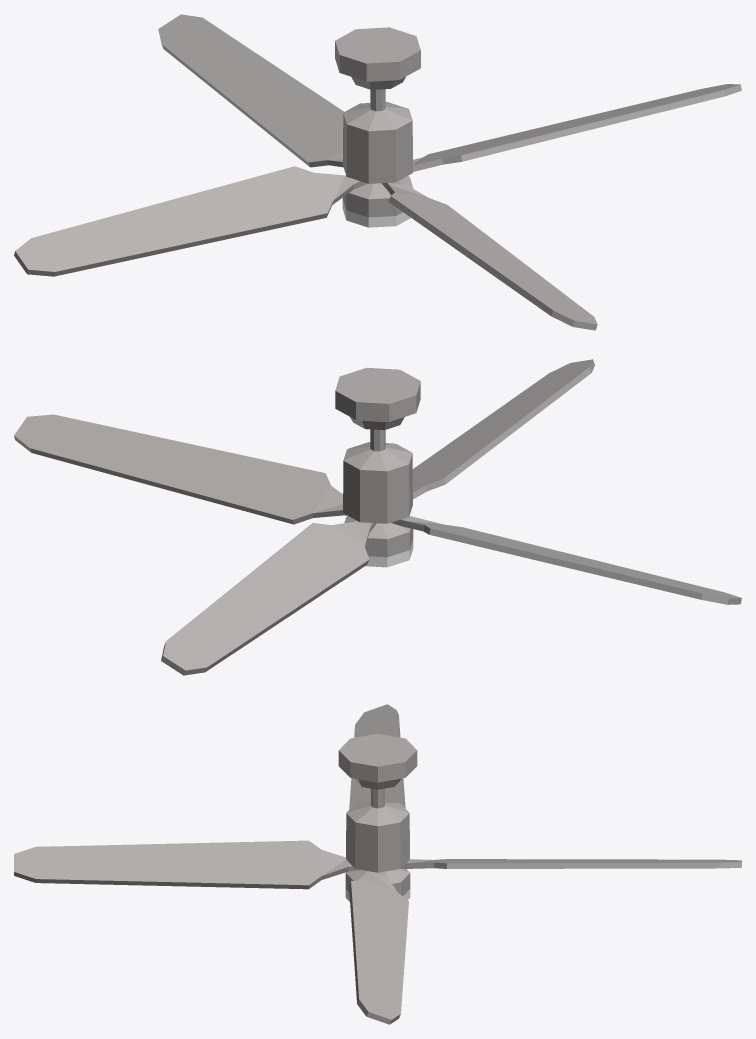
Rendered from SM_Prop_CeilingFan_01.glb.
3 views of the same model, one above another, from view 1: azimuth 30°, elevation 25°; view 2: azimuth 150°, elevation 25°; view 3: azimuth 270°, elevation 25° (orthographic). The views are drawn at different scales.
Visible parts, largest first — view 1: SM_Prop_CeilingFan_01; view 2: SM_Prop_CeilingFan_01; view 3: SM_Prop_CeilingFan_01.
Part boxes in pixels (<box>): SM_Prop_CeilingFan_01: <box>14,14,741,330</box>; SM_Prop_CeilingFan_01: <box>14,359,741,675</box>; SM_Prop_CeilingFan_01: <box>14,704,741,1024</box>.
Bounding box in the file's own units: 2.35 × 0.5265 × 2.35.
2 materials, 2 textured.
